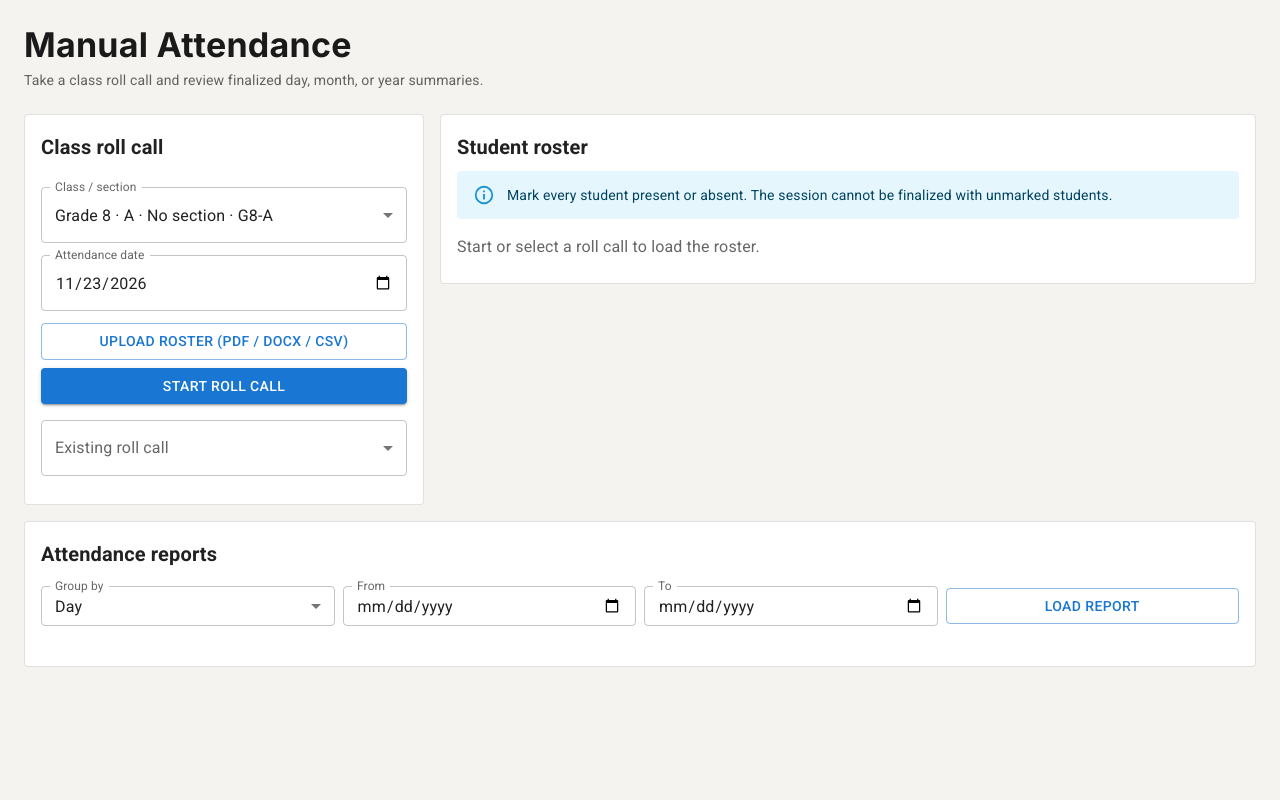
teacher can start roll call, mark a student present, and save the roster
The image size is (1280, 800).
Later steps or results of the test are not shown.
Click the button "Start roll call" at (224, 386), box left=41, top=368, right=407, bottom=404
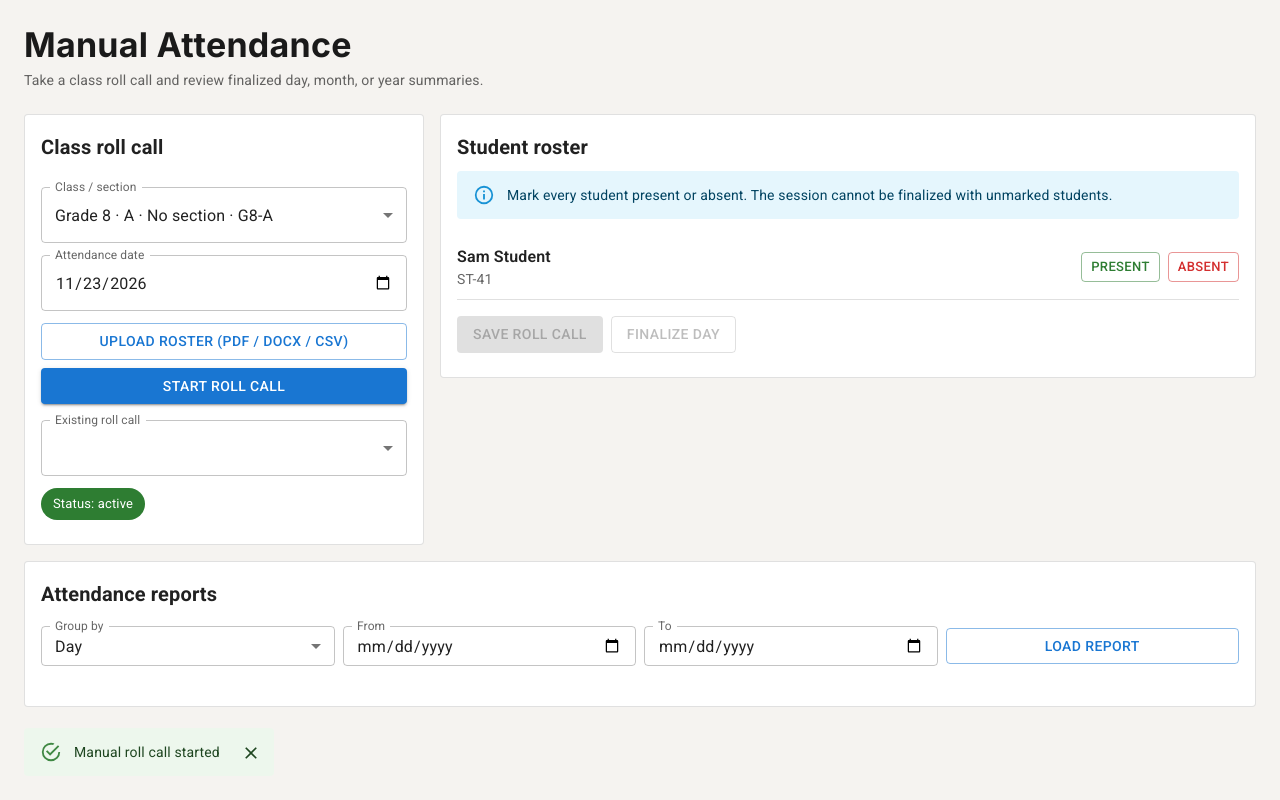
Result: the text "Sam Student" is shown at left=457, top=245, right=551, bottom=269
